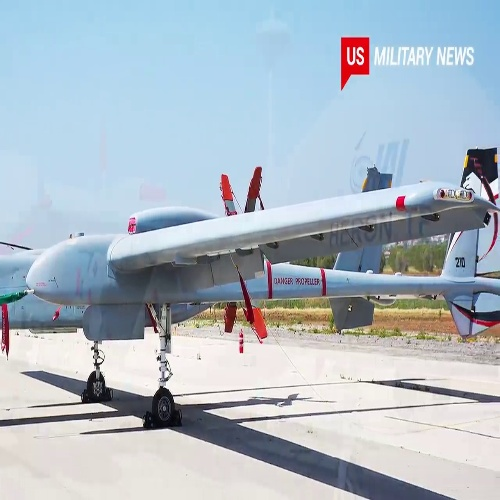uav: (25, 166, 500, 421)
